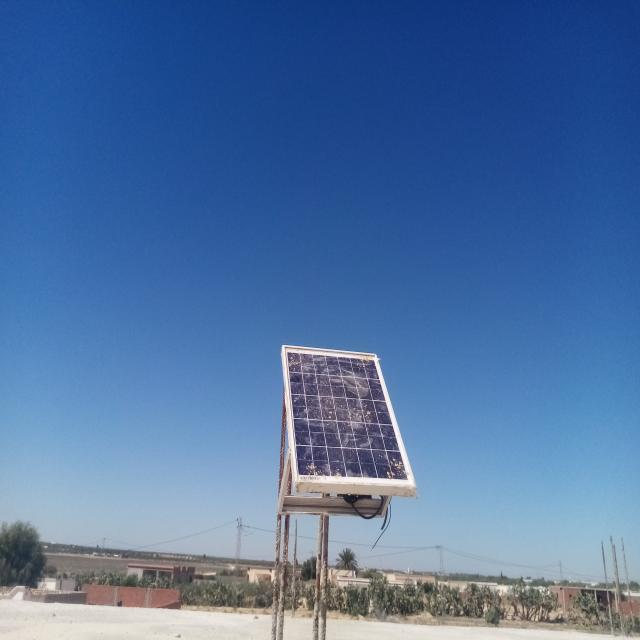faulty: (282, 345, 417, 488)
